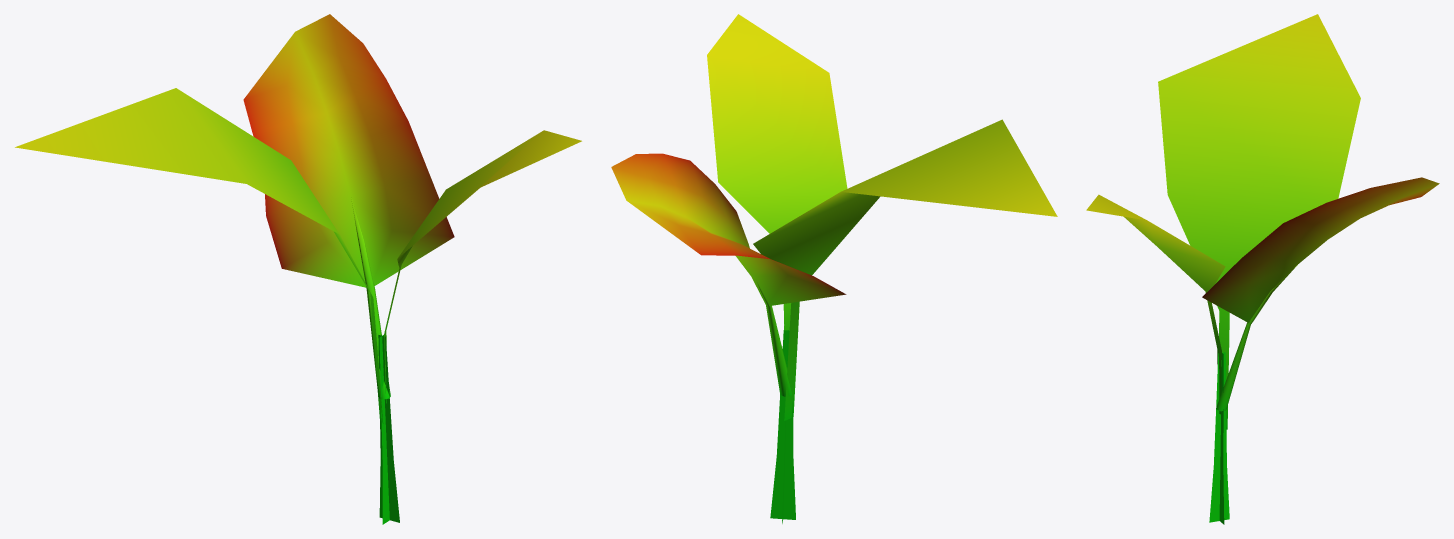
File: var3.fbx
3 renders of one model, left to right at view 1: azimuth 30°, elevation 25°; view 2: azimuth 150°, elevation 25°; view 3: azimuth 270°, elevation 25°, orthographic. The views are drawn at different scales.
Parts seen in each view (by area): view 1: Var3_LOD0; view 2: Var3_LOD0; view 3: Var3_LOD0.
Part boxes in pixels (x1,y1,x2,y2): Var3_LOD0: [15, 14, 581, 524]; Var3_LOD0: [611, 14, 1057, 523]; Var3_LOD0: [1086, 14, 1439, 524].
Size of what is drawn, in the model's own units: 82.39 by 73.79 by 64.38.
